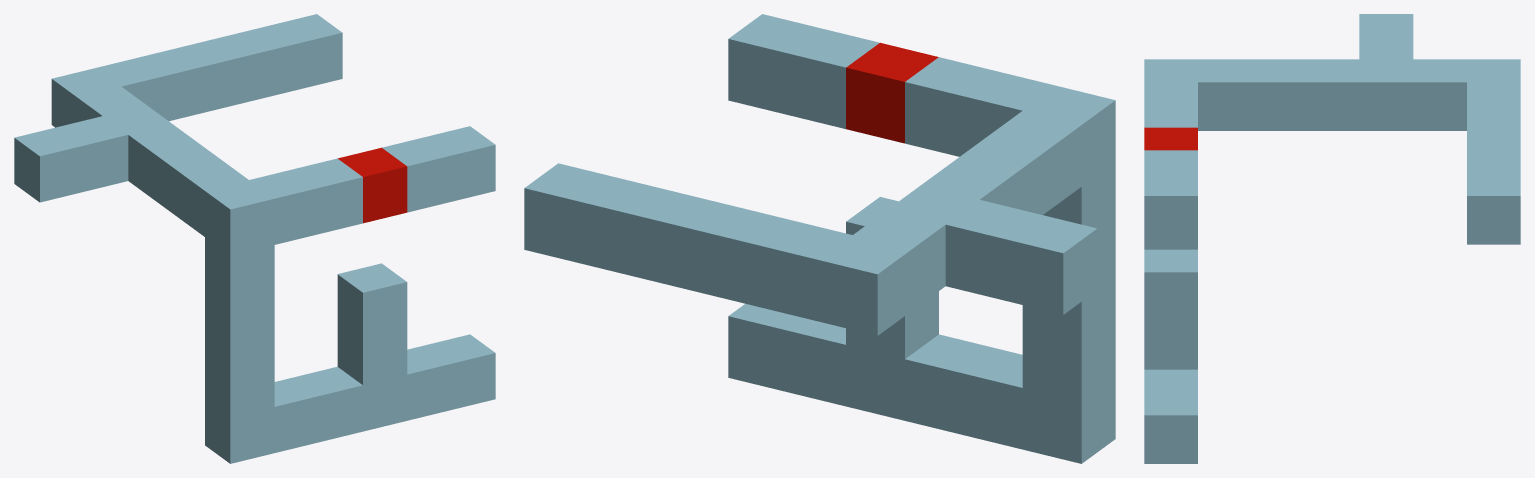
File: LevelPlatform_1.fbx
3 views of the same model, side by side, from view 1: azimuth 30°, elevation 25°; view 2: azimuth 150°, elevation 25°; view 3: azimuth 270°, elevation 25° (orthographic). The views are drawn at different scales.
Parts seen in each view (by area): view 1: Cube.000; view 2: Cube.000; view 3: Cube.000.
Boxes of the visible parts, x1,y1,x2,y2 form: Cube.000: (14,14,495,463); Cube.000: (524,14,1115,463); Cube.000: (1144,14,1520,463).
Bounding box in the file's own units: 1400 × 1600 × 1100.
